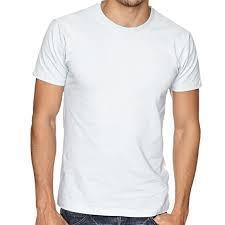Tshirt: (32, 2, 201, 218)
